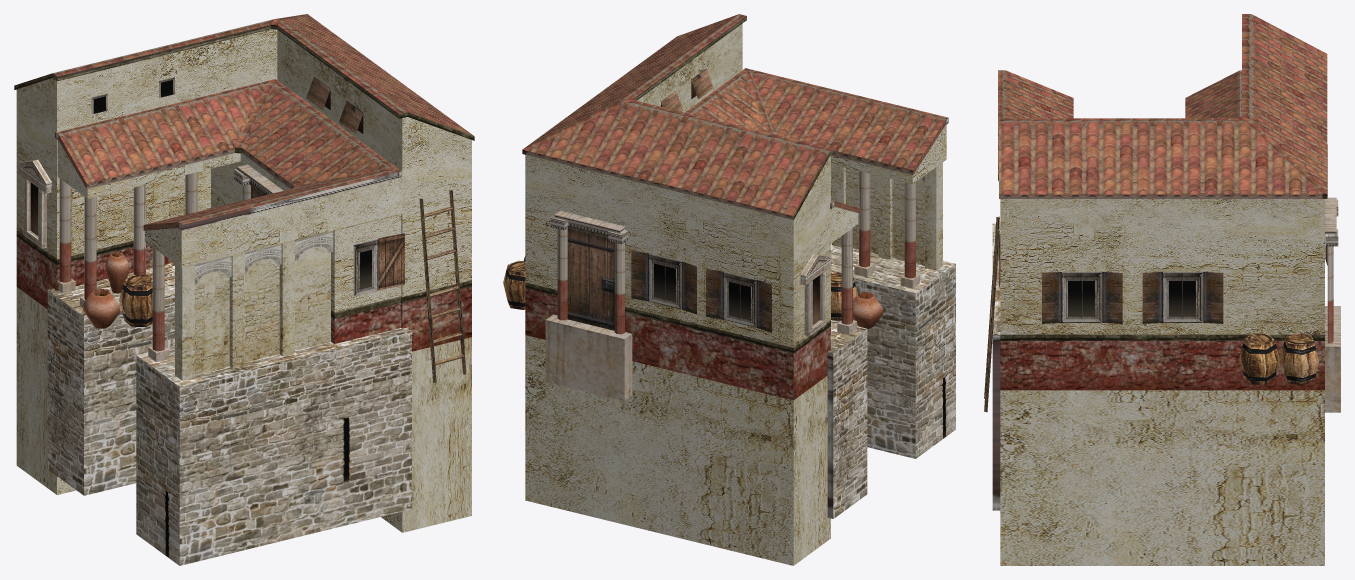
File: roman_house_d.dae
3 views of the same model, side by side, from view 1: azimuth 30°, elevation 25°; view 2: azimuth 150°, elevation 25°; view 3: azimuth 270°, elevation 25° (orthographic). The views are drawn at different scales.
Parts seen in each view (by area): view 1: HouseD; view 2: HouseD; view 3: HouseD.
Boxes of the visible parts, x1,y1,x2,y2 form: HouseD: [14, 14, 474, 565]; HouseD: [503, 14, 955, 565]; HouseD: [984, 14, 1340, 565].
Size of the model in its own units: 16.13 by 15.07 by 19.21.
